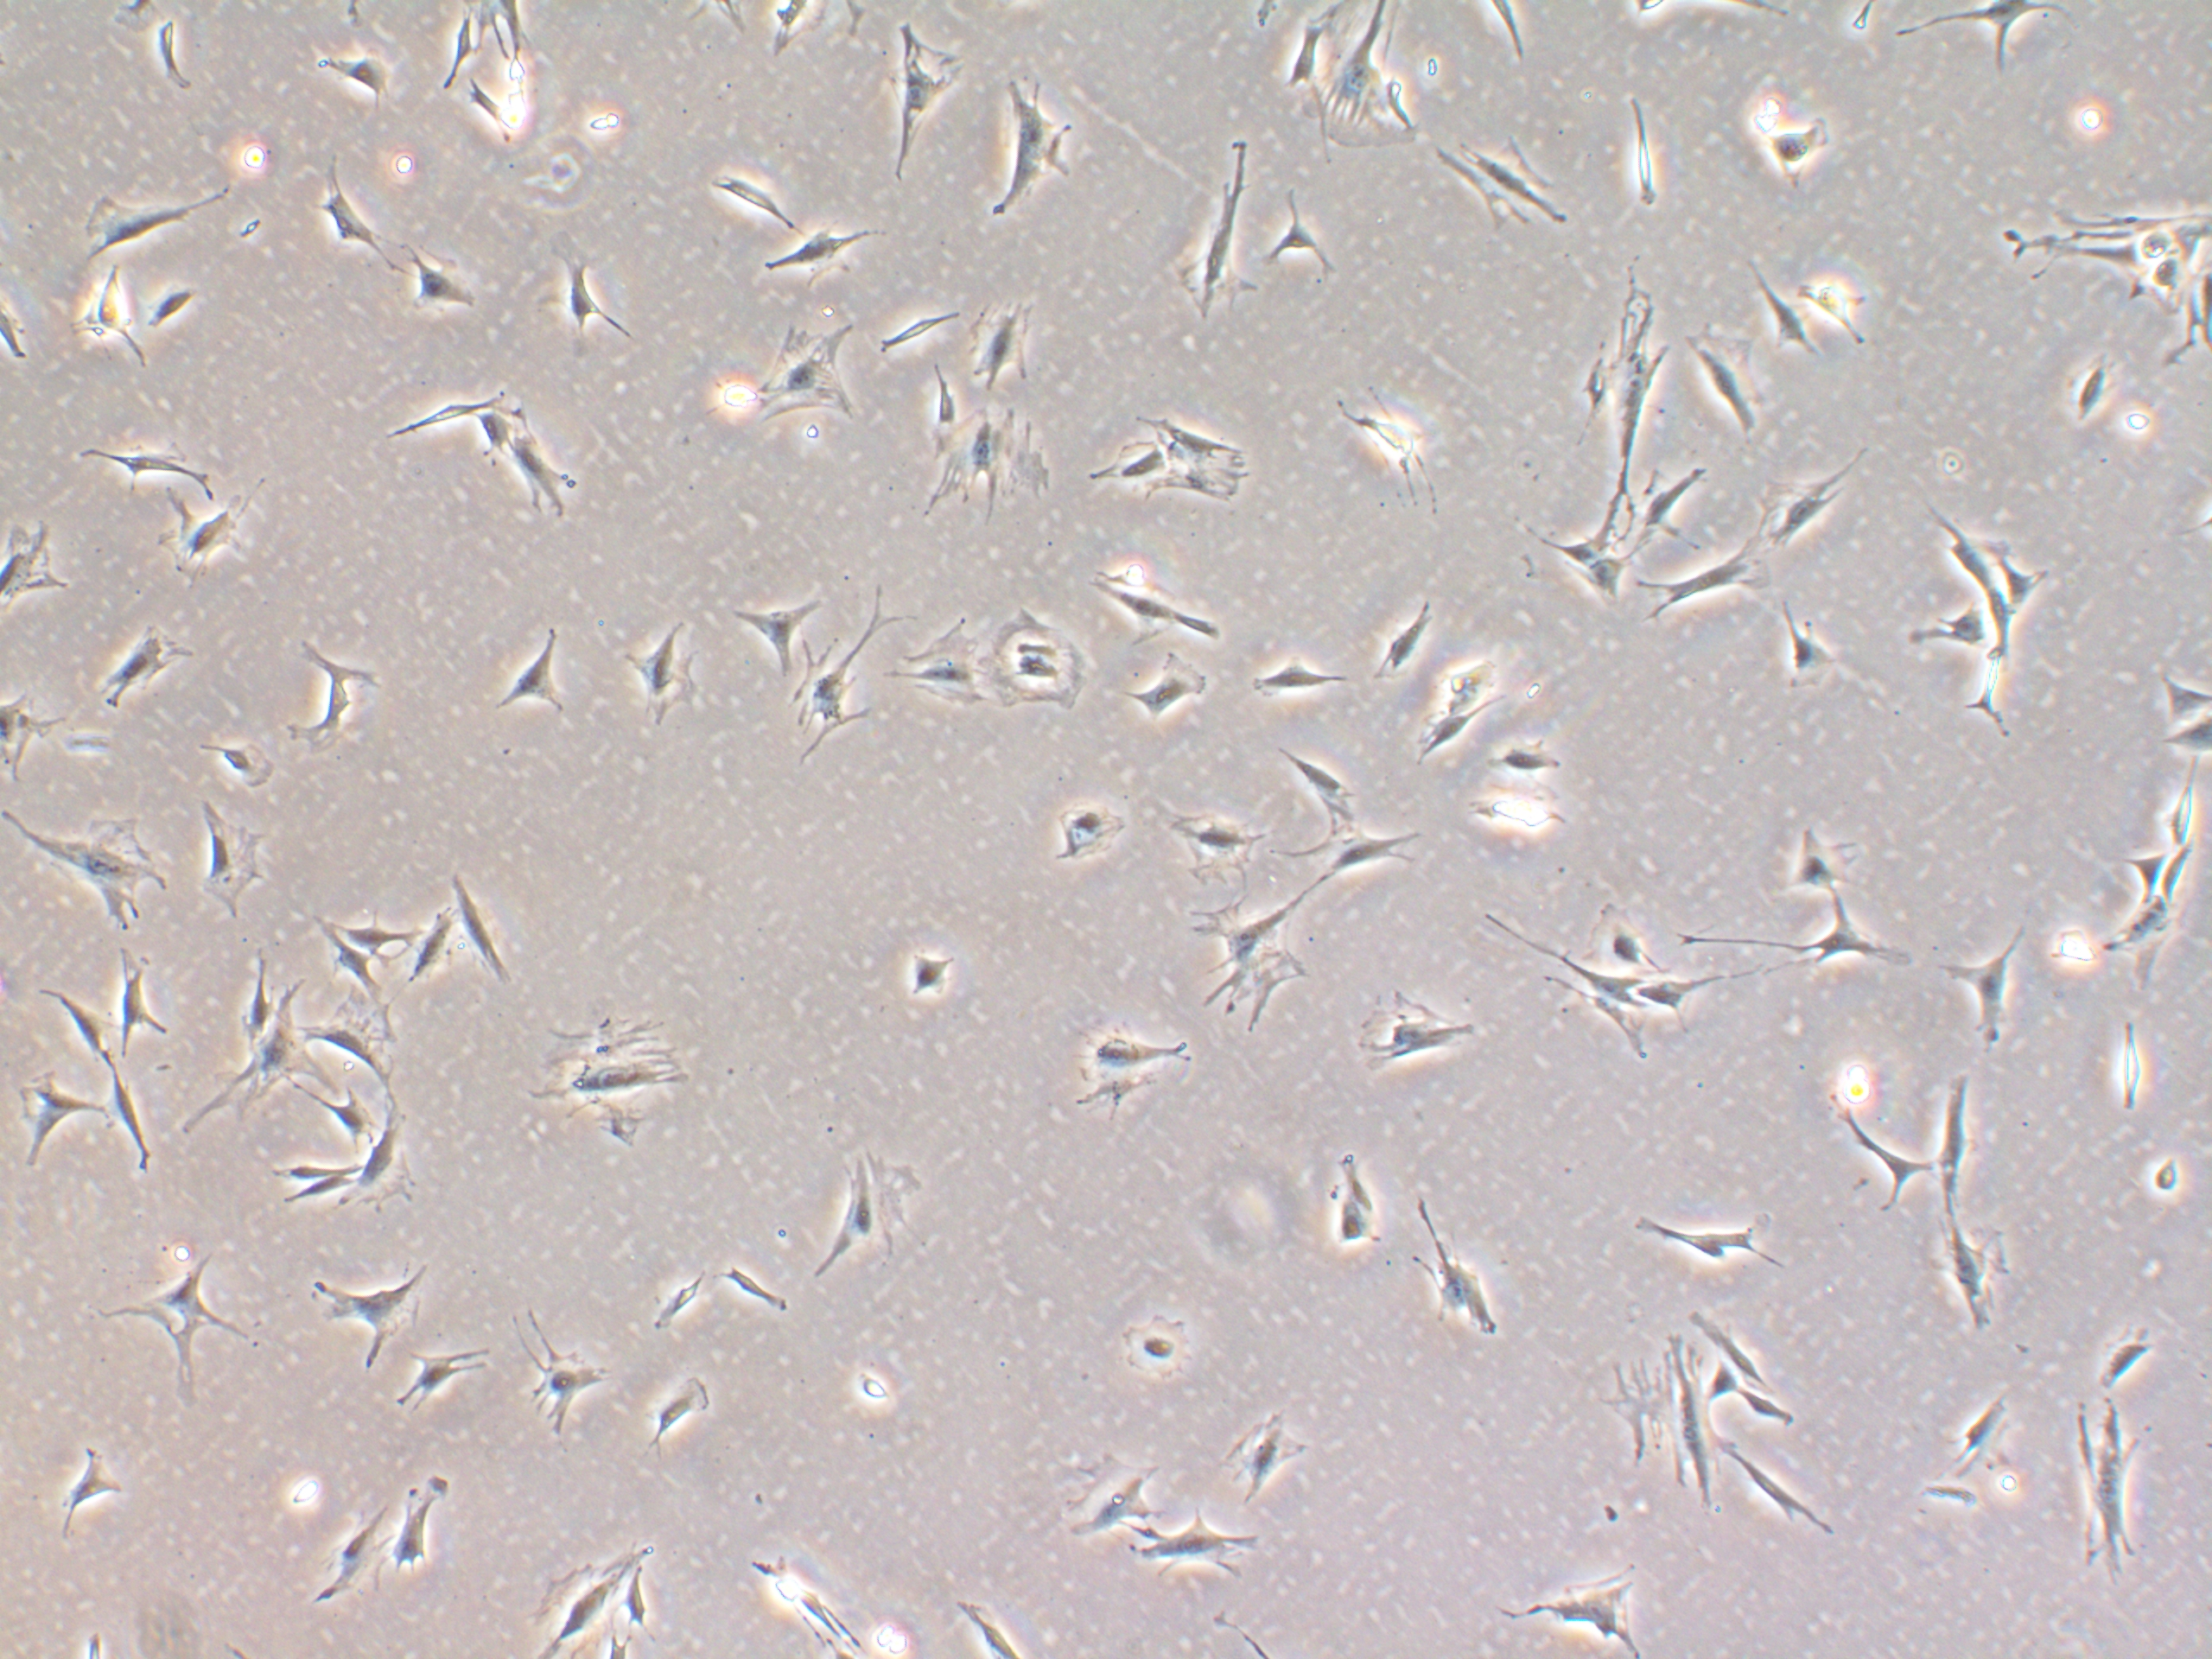Etc: (1332, 394, 1467, 523), (1594, 89, 1670, 230), (381, 385, 510, 450), (867, 296, 974, 366), (2097, 1004, 2153, 1127), (148, 9, 206, 115)
polygonal: (1670, 889, 1942, 1002), (970, 66, 1103, 242), (1810, 1079, 1937, 1244), (484, 608, 606, 781), (1484, 1547, 1669, 1659), (1583, 251, 1669, 483), (1700, 1429, 1855, 1546), (298, 1256, 456, 1368), (516, 227, 646, 361), (1491, 915, 1660, 1018), (1190, 122, 1271, 331), (54, 416, 266, 497), (1904, 1202, 2020, 1345), (874, 19, 967, 197), (2064, 1396, 2153, 1581), (1630, 1195, 1803, 1286), (1923, 908, 2024, 1060), (1413, 1190, 1496, 1373), (1287, 828, 1446, 920), (1536, 481, 1641, 620), (1738, 446, 1879, 549), (1350, 988, 1498, 1086), (1057, 1019, 1195, 1124), (1670, 317, 1782, 444), (1740, 237, 1836, 382), (693, 145, 827, 246), (77, 179, 235, 265), (89, 613, 202, 728), (42, 1425, 146, 1546), (1021, 782, 1146, 882), (158, 495, 265, 612), (308, 40, 427, 141), (510, 1314, 604, 1441), (728, 589, 838, 697), (1325, 1150, 1407, 1295), (1223, 1396, 1327, 1506), (1367, 572, 1456, 701), (289, 606, 371, 744), (12, 1066, 111, 1180), (385, 1467, 463, 1610), (620, 610, 709, 735), (1266, 739, 1390, 828), (284, 999, 402, 1091), (503, 411, 590, 537), (172, 720, 310, 798), (1642, 549, 1777, 629), (315, 1509, 413, 1619), (622, 1370, 721, 1476), (451, 864, 526, 1000), (343, 1087, 421, 1215), (150, 1241, 240, 1351), (1919, 1060, 1984, 1208), (378, 1338, 496, 1419), (1681, 1305, 1784, 1398), (101, 945, 179, 1063), (1139, 1511, 1259, 1588), (2090, 887, 2181, 988), (91, 1065, 164, 1188), (1402, 685, 1515, 762), (1261, 183, 1346, 284), (1930, 493, 2008, 603), (301, 918, 392, 1012), (1932, 1377, 2033, 1460), (383, 240, 482, 324), (1122, 659, 1230, 735), (1770, 610, 1862, 699), (1082, 565, 1186, 640), (310, 166, 388, 265), (47, 981, 124, 1082), (1249, 650, 1357, 720), (1892, 606, 1994, 678), (1630, 464, 1714, 551), (263, 1175, 381, 1236), (2059, 349, 2137, 436), (314, 897, 432, 953), (402, 894, 472, 988), (721, 1246, 813, 1316), (221, 946, 282, 1047), (291, 1084, 373, 1159), (2099, 823, 2177, 899), (1998, 551, 2085, 615), (2085, 1310, 2160, 1384), (1740, 1385, 1822, 1452), (887, 938, 967, 1004), (2141, 655, 2212, 727), (258, 1152, 373, 1187), (1170, 606, 1245, 657), (2155, 838, 2195, 922)
small-round: (1747, 805, 1885, 908), (1747, 108, 1858, 207), (1106, 1302, 1211, 1406), (138, 281, 221, 369), (1489, 711, 1571, 784), (2024, 918, 2104, 983), (2142, 1143, 2202, 1213), (472, 397, 528, 464), (838, 1364, 897, 1424), (226, 124, 275, 192)
spread: (1987, 193, 2212, 349), (529, 995, 686, 1159), (1588, 1330, 1724, 1516), (1278, 0, 1430, 160), (1176, 896, 1325, 1044), (16, 810, 167, 936), (737, 312, 876, 446), (913, 411, 1061, 526), (982, 601, 1092, 756), (817, 1143, 948, 1272), (183, 1012, 331, 1117), (1151, 788, 1280, 904), (888, 617, 1005, 720), (183, 802, 279, 922), (948, 291, 1047, 394)
